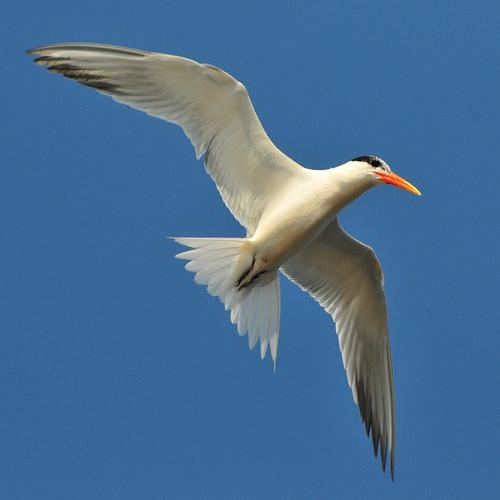bird: (23, 37, 405, 480)
